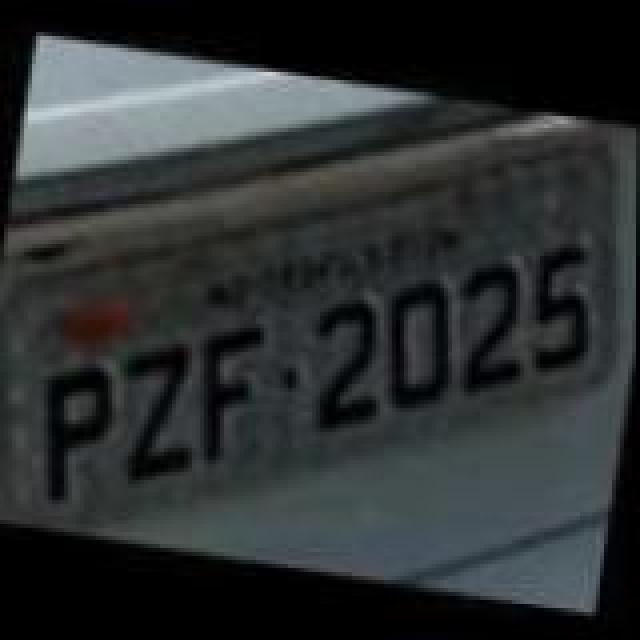2: (304, 290, 408, 438), (444, 254, 540, 406)
5: (516, 232, 612, 380)
F: (188, 312, 280, 472)
O: (380, 278, 468, 422)
P: (32, 358, 128, 510)
Z: (110, 340, 214, 492)
